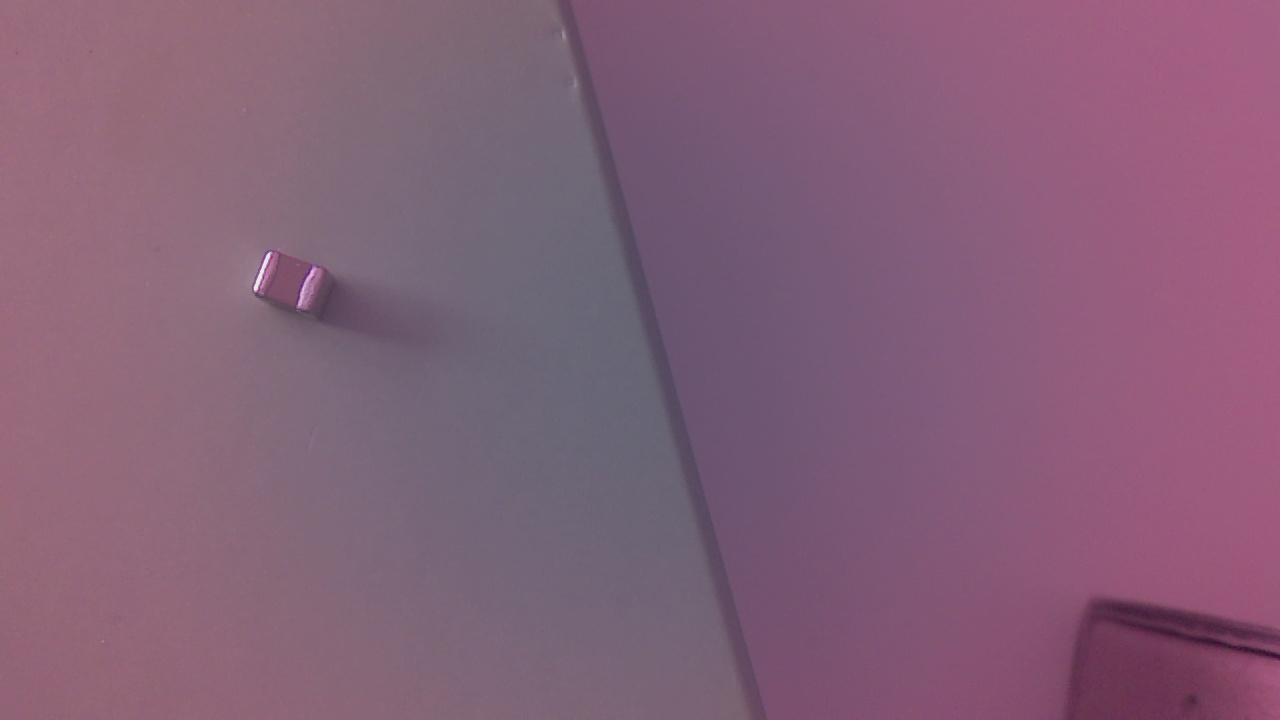Condensator: (259, 253, 343, 331)
